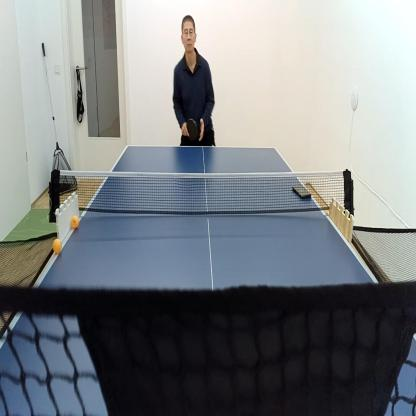Ball: (53, 238, 62, 253), (71, 214, 79, 229)
